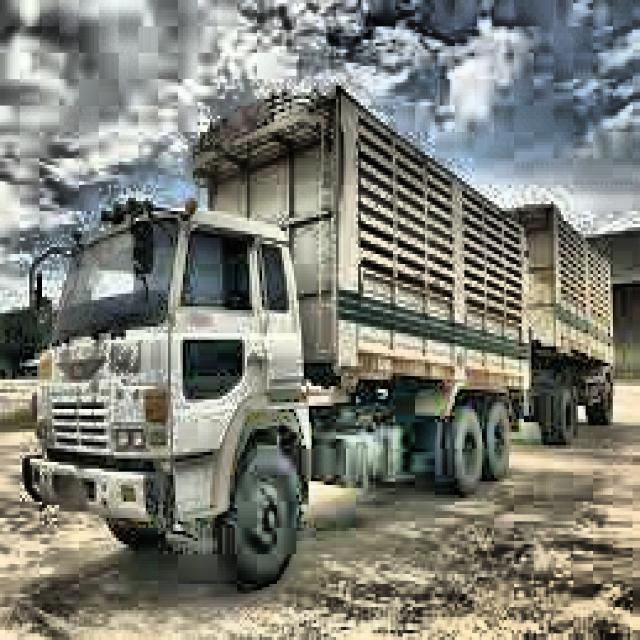trailer: (22, 84, 615, 590)
